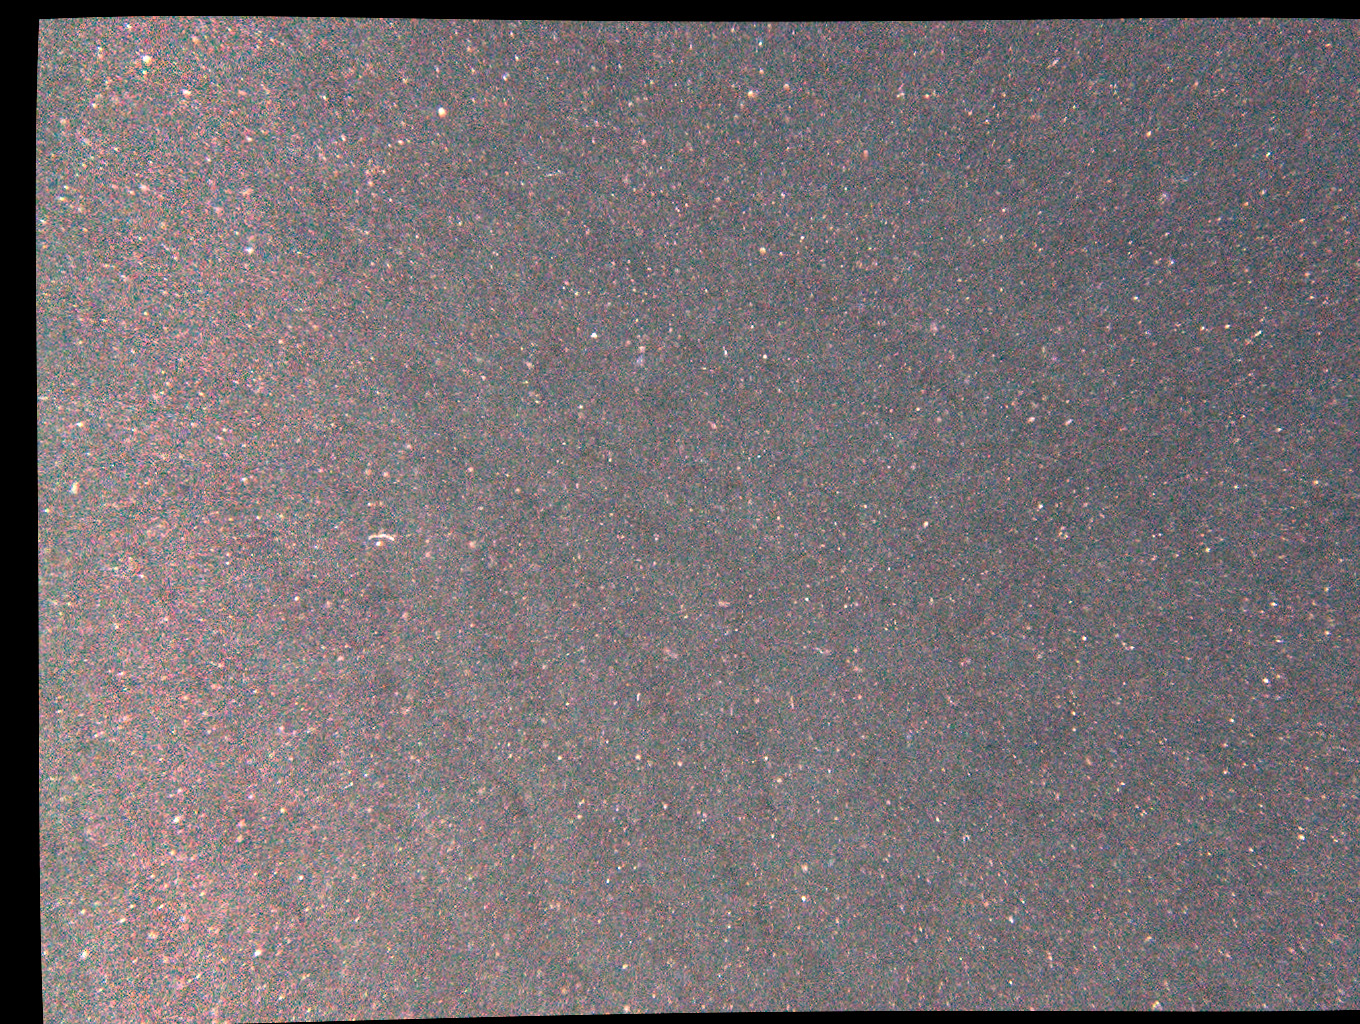Substrate A: (147, 81, 177, 102)
